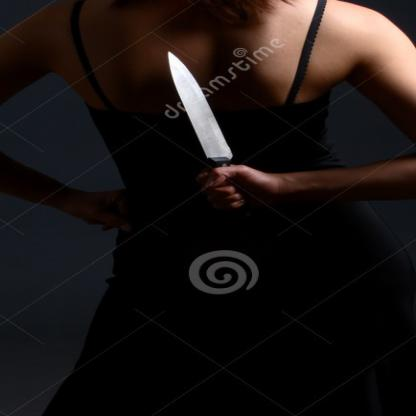knife: (152, 42, 252, 216)
